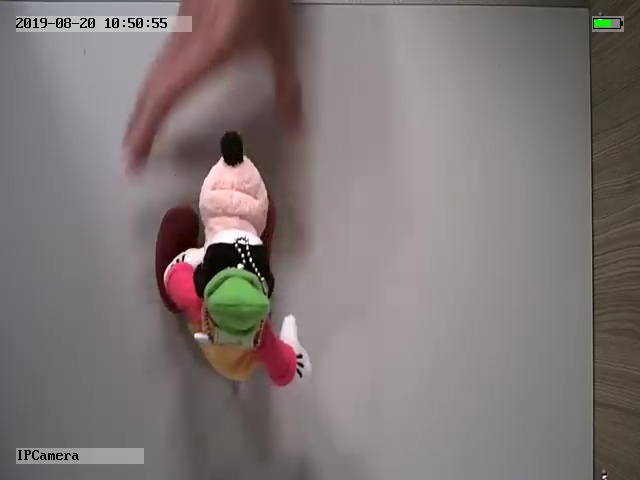goofy: (155, 130, 312, 392)
